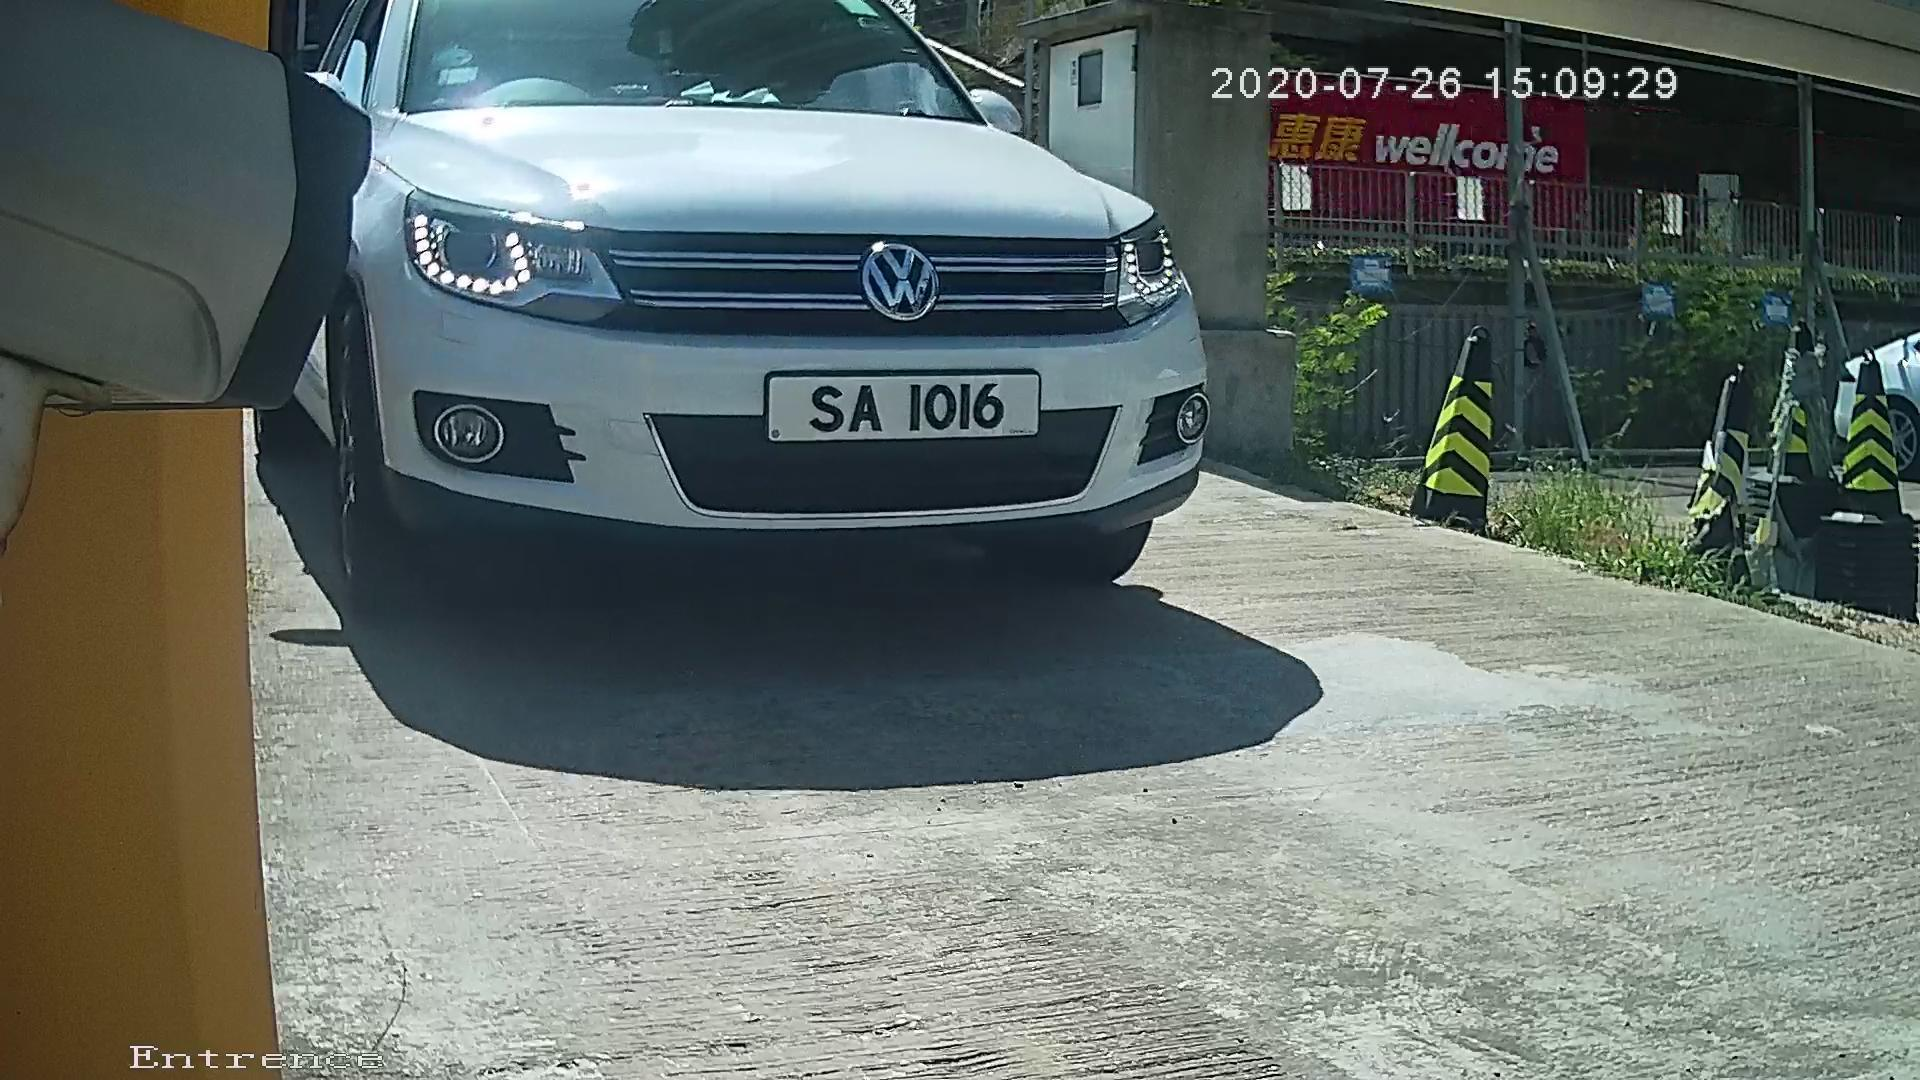privatecar: (241, 1, 1321, 753)
